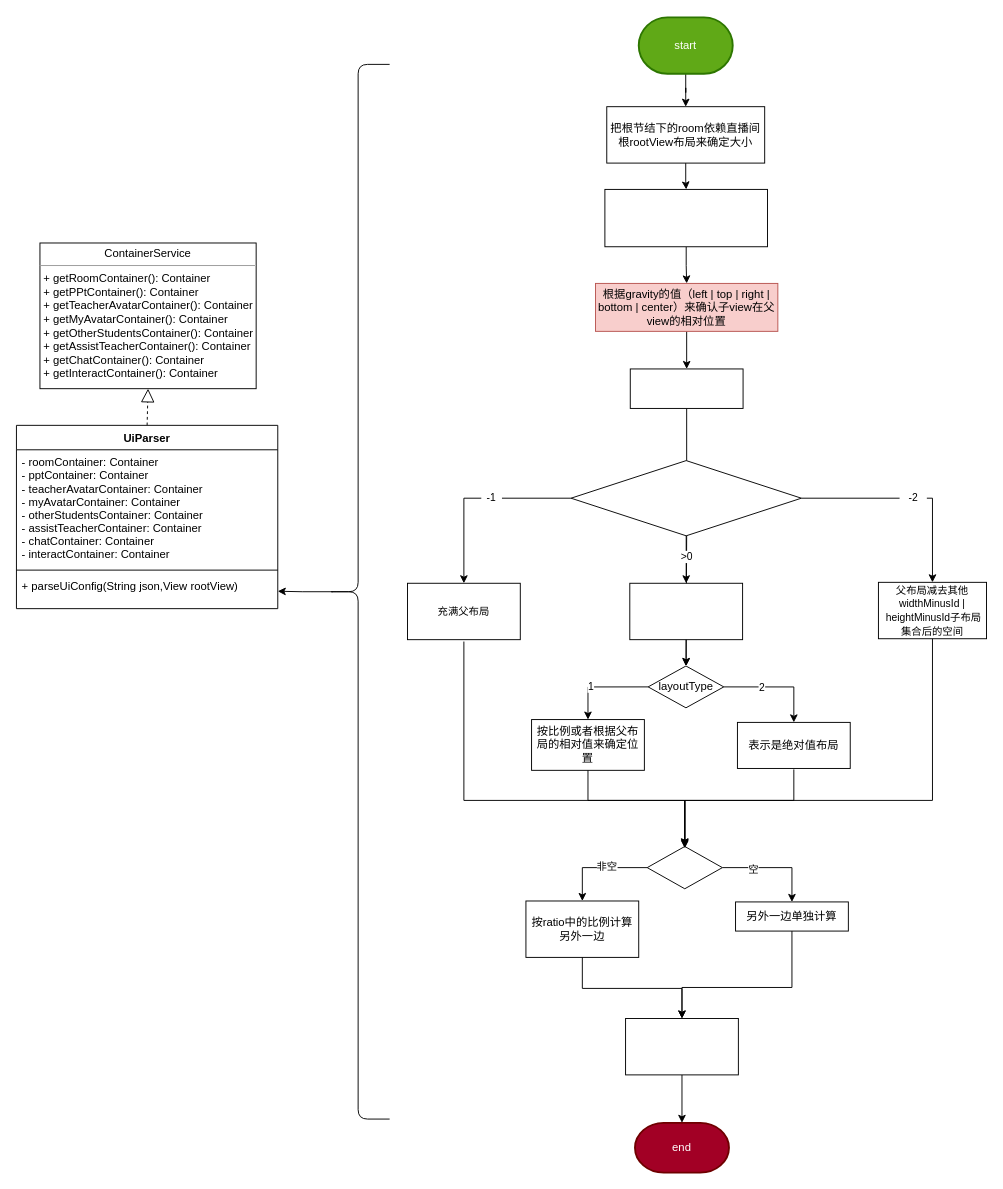
This 1003x1189 diagram has some shape labels left out. The centre of each missing label's shape, as x and y in pixels:
"ratio" goes at (x=684, y=867).
"width | height 计算宽高" goes at (x=685, y=498).
"具体值的时候根据layoutType来确定大小" goes at (x=686, y=611).
"得到长和宽的值" goes at (x=681, y=1046).
"根据margin来判断其周围留白区域大小" goes at (x=686, y=388).
"获取room节点下的children属性，即子view根据viewPriority排序并依次初始化容器" goes at (x=686, y=217).
